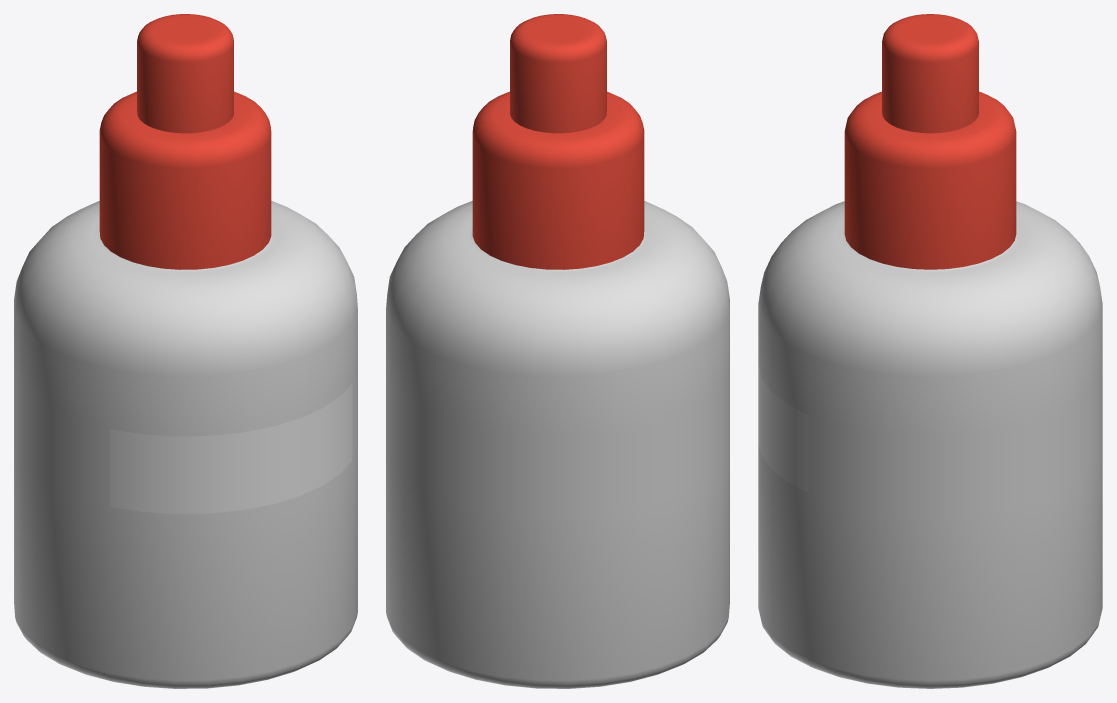
File: HCl.fbx
The picture shows the model from 3 angles, left to right: view 1: azimuth 30°, elevation 25°; view 2: azimuth 150°, elevation 25°; view 3: azimuth 270°, elevation 25°; orthographic projection.
Parts seen in each view (by area): view 1: Export HCl; view 2: Export HCl; view 3: Export HCl.
Part boxes in pixels (left/top/right/bottom): Export HCl: left=14, top=14, right=357, bottom=688; Export HCl: left=386, top=14, right=729, bottom=688; Export HCl: left=758, top=14, right=1102, bottom=688.
Size of the model in its own units: 6.87 by 13 by 6.87.
